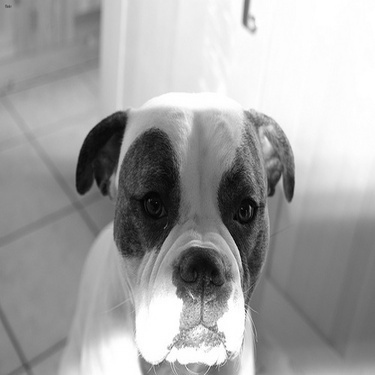dog: (49, 88, 298, 373)
